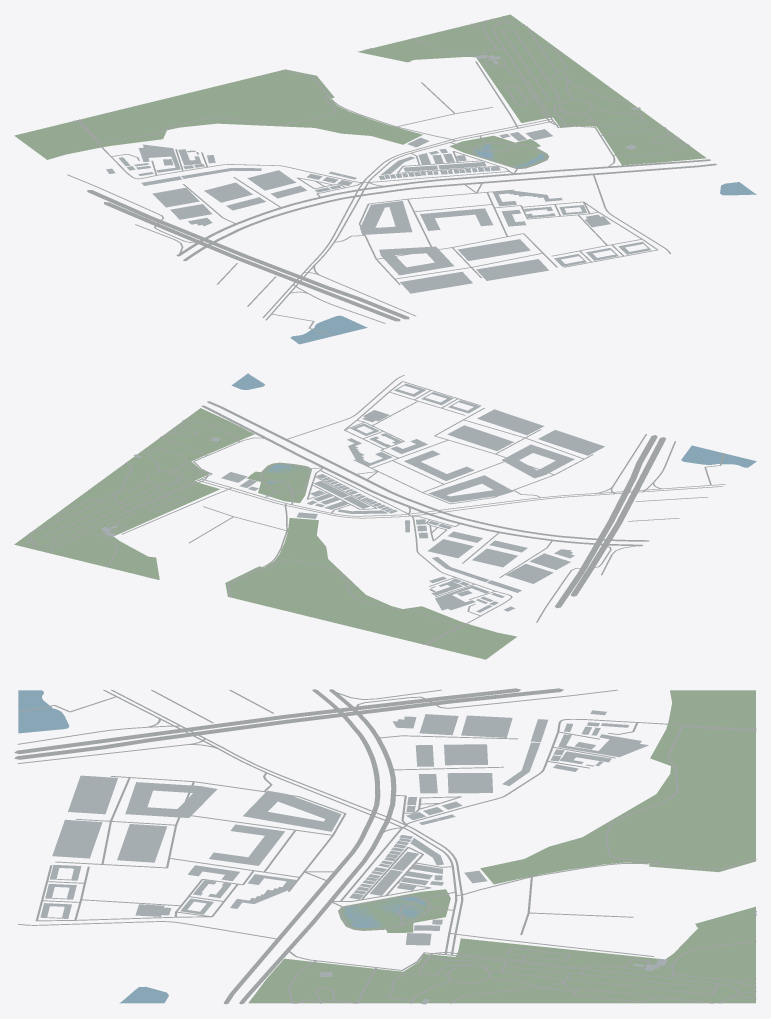
Rendered from -14_15-known-coarse.glb.
The picture shows the model from 3 angles, top to bottom: view 1: azimuth 30°, elevation 25°; view 2: azimuth 150°, elevation 25°; view 3: azimuth 270°, elevation 25°; orthographic projection. The views are drawn at different scales.
Size of the model in its own units: 1009 by 0.15 by 1002.
